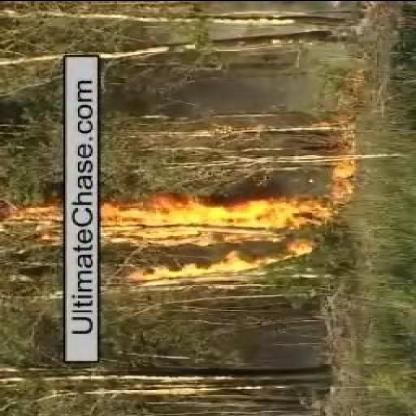foggia-v2-map80-epoch100 - v1 4323: (101, 203, 294, 237)
